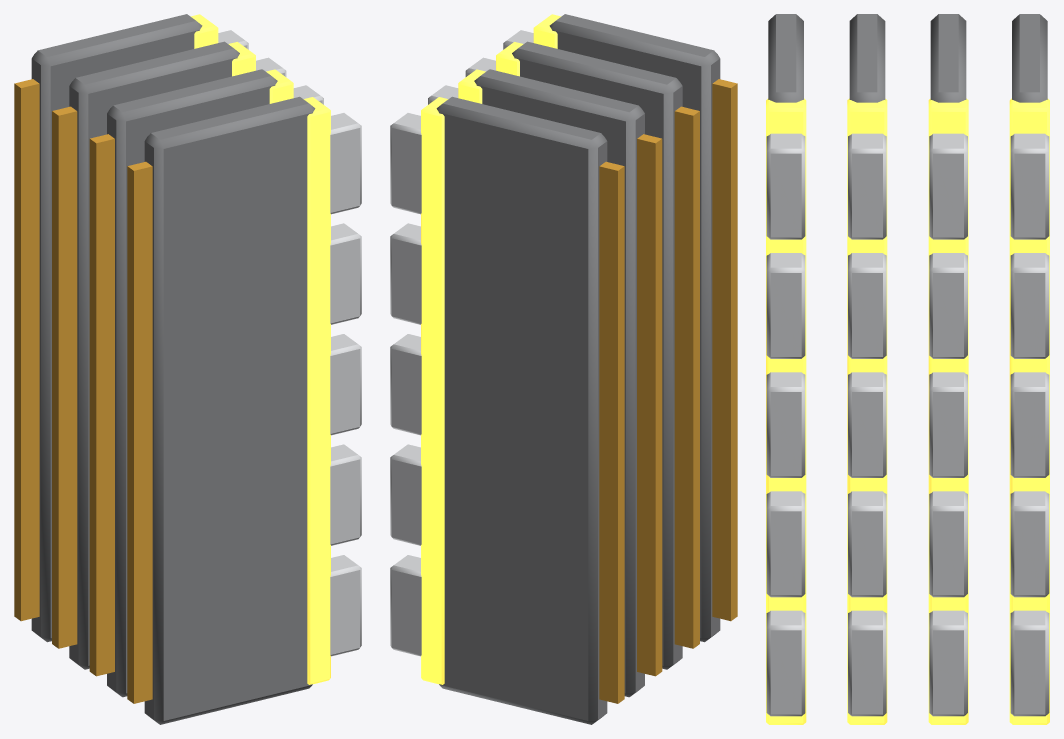
File: ram_dominator.glb
3 views of the same model, side by side, from view 1: azimuth 30°, elevation 25°; view 2: azimuth 150°, elevation 25°; view 3: azimuth 270°, elevation 25° (orthographic). The views are drawn at different scales.
Visible parts, largest first — view 1: RAM_Dominator_Body, RGB_RAM_Dominator; view 2: RAM_Dominator_Body, RGB_RAM_Dominator; view 3: RAM_Dominator_Body, RGB_RAM_Dominator.
Boxes of the visible parts, x1,y1,x2,y2 form: RAM_Dominator_Body: [14, 14, 361, 724]; RGB_RAM_Dominator: [190, 14, 330, 684]; RAM_Dominator_Body: [390, 14, 737, 724]; RGB_RAM_Dominator: [421, 14, 561, 684]; RAM_Dominator_Body: [766, 14, 1049, 716]; RGB_RAM_Dominator: [766, 98, 1049, 724].
Bounding box in the file's own units: 0.36 × 0.9 × 0.367.
